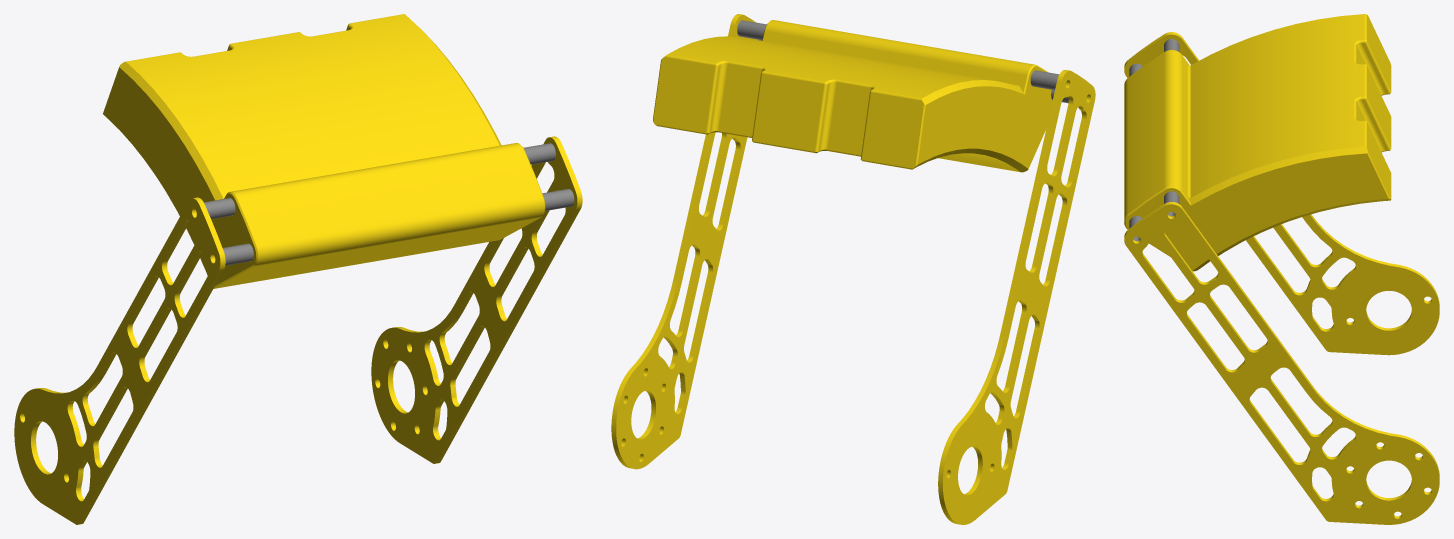
The picture shows the model from 3 angles, left to right: view 1: azimuth 30°, elevation 25°; view 2: azimuth 150°, elevation 25°; view 3: azimuth 270°, elevation 25°; orthographic projection. The views are drawn at different scales.
Parts seen in each view (by area): view 1: WCP-0604-007 Rev1, WCP-0604-003 Rev1, WCP-0604-002 Rev1, Part 63 (×2); view 2: WCP-0604-007 Rev1, WCP-0604-003 Rev1, WCP-0604-002 Rev1, Part 63; view 3: WCP-0604-007 Rev1, WCP-0604-002 Rev1, WCP-0604-003 Rev1.
Part boxes in pixels (bbox=[...]): WCP-0604-007 Rev1: bbox=[103, 14, 545, 288]; WCP-0604-003 Rev1: bbox=[14, 197, 225, 524]; WCP-0604-002 Rev1: bbox=[371, 136, 582, 463]; Part 63 (×2): bbox=[204, 143, 574, 265]; WCP-0604-007 Rev1: bbox=[653, 20, 1052, 172]; WCP-0604-003 Rev1: bbox=[938, 70, 1095, 524]; WCP-0604-002 Rev1: bbox=[611, 14, 758, 469]; Part 63: bbox=[737, 20, 1059, 90]; WCP-0604-007 Rev1: bbox=[1124, 14, 1391, 271]; WCP-0604-002 Rev1: bbox=[1124, 202, 1439, 524]; WCP-0604-003 Rev1: bbox=[1124, 32, 1439, 355].
Size of the model in its own units: 0.2377 by 0.2695 by 0.1974.
